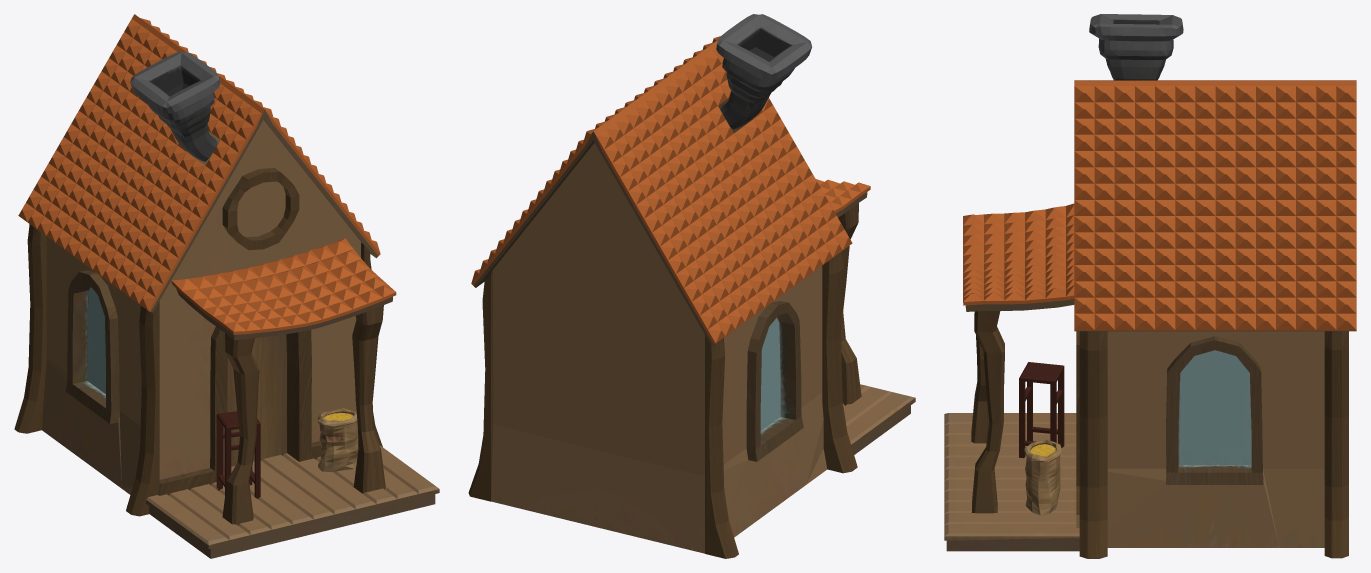
The picture shows the model from 3 angles, left to right: view 1: azimuth 30°, elevation 25°; view 2: azimuth 150°, elevation 25°; view 3: azimuth 270°, elevation 25°; orthographic projection. The views are drawn at different scales.
Visible parts, largest first — view 1: slot_anchor_house, slot_roof, slot_porch_canopy, slot_add04_a_burlap_sack_fill, slot_add02_a_wooden_park_benc; view 2: slot_anchor_house, slot_roof, slot_porch_canopy; view 3: slot_anchor_house, slot_roof, slot_porch_canopy, slot_add02_a_wooden_park_benc, slot_add04_a_burlap_sack_fill.
Part boxes in pixels (x1,y1,x2,y2): slot_anchor_house: (14, 120, 439, 558); slot_roof: (18, 14, 380, 312); slot_porch_canopy: (171, 238, 396, 340); slot_add04_a_burlap_sack_fill: (317, 408, 358, 471); slot_add02_a_wooden_park_benc: (216, 411, 260, 498); slot_anchor_house: (468, 97, 915, 558); slot_roof: (471, 14, 852, 345); slot_porch_canopy: (816, 179, 870, 217); slot_anchor_house: (944, 311, 1348, 558); slot_roof: (1074, 14, 1356, 331); slot_porch_canopy: (963, 203, 1074, 311); slot_add02_a_wooden_park_benc: (1019, 362, 1064, 458); slot_add04_a_burlap_sack_fill: (1024, 439, 1061, 515).
Bounding box in the file's own units: 0.7265 × 1.13 × 0.9419.
Materials: 3 (3 with a texture image).
